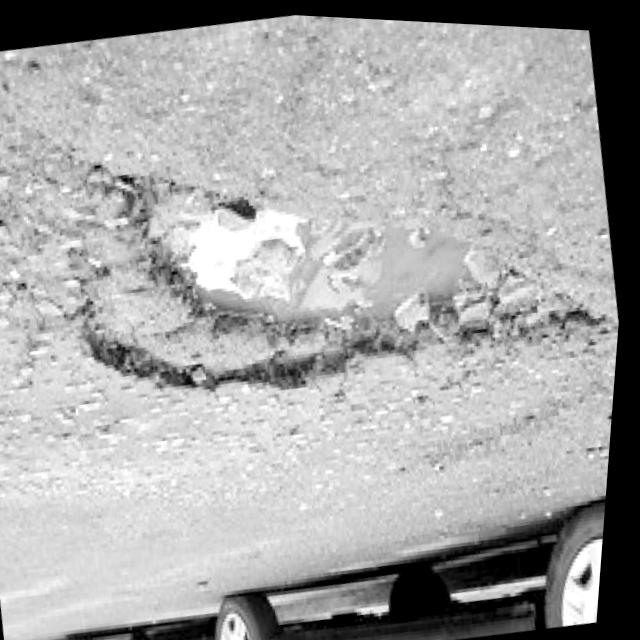pathole: (27, 22, 618, 490)
